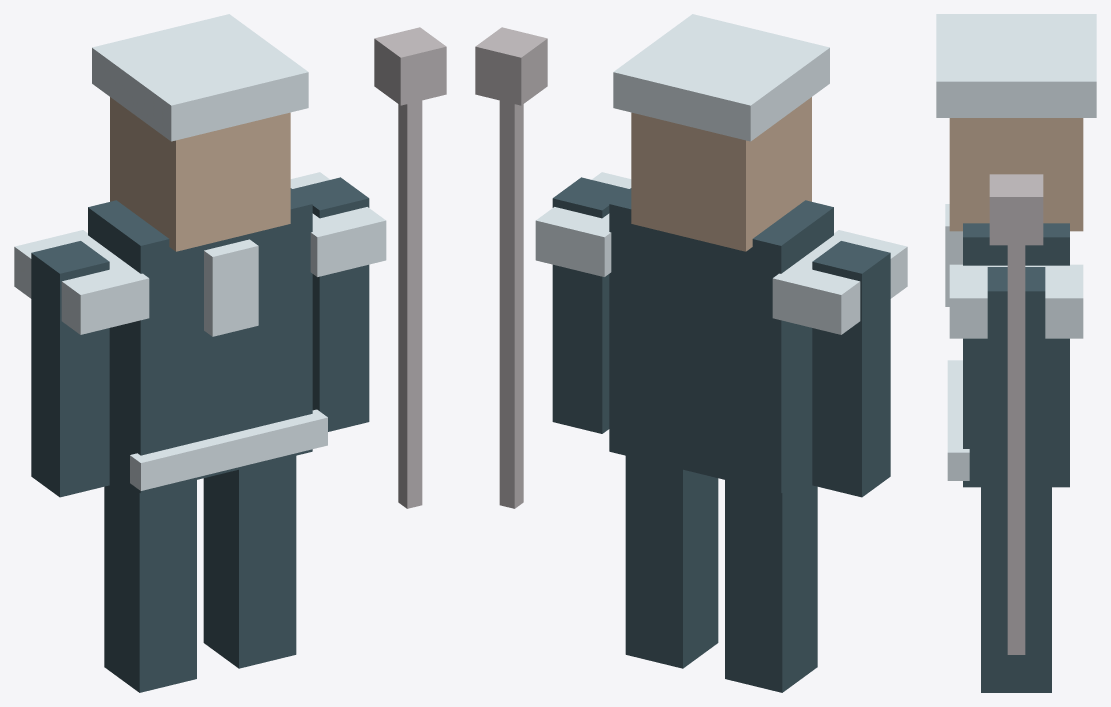
Rendered from 15_astra_whispercoil_keeper_under_platform.glb.
3 renders of one model, left to right at view 1: azimuth 30°, elevation 25°; view 2: azimuth 150°, elevation 25°; view 3: azimuth 270°, elevation 25°, orthographic.
Visible parts, largest first — view 1: Astra Whispercoil, Keeper under Platform; view 2: Astra Whispercoil, Keeper under Platform; view 3: Astra Whispercoil, Keeper under Platform.
Part boxes in pixels (x1=…): Astra Whispercoil, Keeper under Platform: x1=14, y1=14, x2=446, y2=692; Astra Whispercoil, Keeper under Platform: x1=475, y1=14, x2=907, y2=692; Astra Whispercoil, Keeper under Platform: x1=936, y1=14, x2=1096, y2=692.
Bounding box in the file's own units: 0.9395 × 1.39 × 0.3332.
